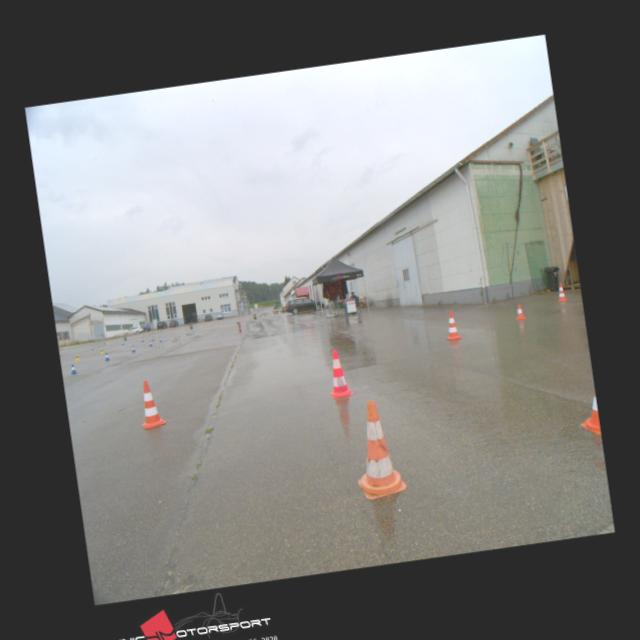blue_cone: (70, 364, 77, 374), (104, 352, 110, 362), (131, 345, 136, 352)
large_orange_cone: (347, 398, 409, 500), (135, 378, 166, 429), (323, 348, 352, 398), (444, 310, 461, 340), (556, 282, 566, 300)
orange_cone: (514, 304, 524, 318)
yellow_cone: (75, 354, 80, 361), (100, 348, 104, 353)
